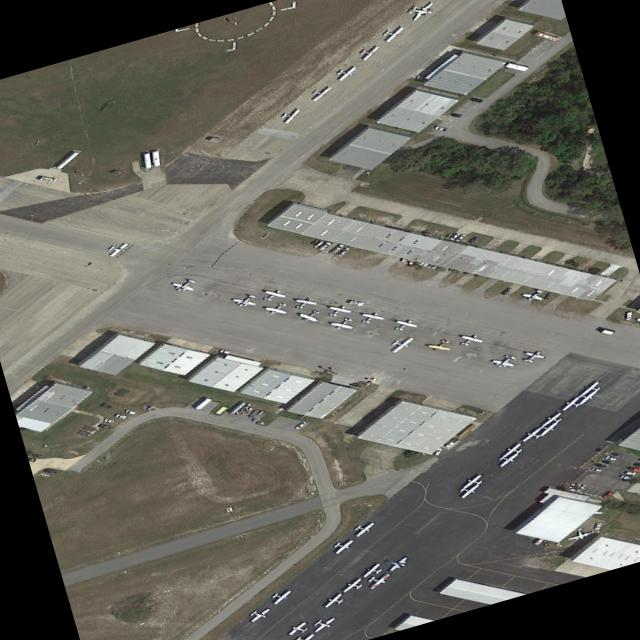large-vehicle: (55, 152, 80, 169), (503, 62, 528, 72), (326, 244, 344, 255), (316, 241, 332, 251), (142, 152, 151, 169), (150, 150, 159, 167), (37, 176, 57, 183), (568, 483, 582, 491), (562, 483, 575, 491), (600, 491, 613, 499), (592, 462, 606, 469), (626, 466, 640, 471), (618, 475, 634, 479)
plane: (400, 0, 441, 22), (305, 615, 340, 634), (379, 554, 414, 573), (359, 572, 394, 590), (166, 277, 202, 294), (383, 335, 417, 353), (375, 25, 408, 43), (564, 524, 595, 543), (242, 605, 274, 623), (452, 332, 487, 348), (457, 473, 489, 490), (226, 293, 262, 308), (570, 388, 601, 405), (337, 577, 368, 594), (575, 380, 606, 397), (517, 426, 548, 443), (487, 354, 522, 369), (490, 451, 522, 467), (325, 538, 357, 554), (294, 308, 326, 324), (531, 419, 561, 436), (452, 482, 482, 499), (261, 301, 294, 316), (326, 316, 359, 331), (387, 318, 420, 333), (424, 338, 457, 353), (319, 593, 349, 609), (498, 442, 528, 458), (347, 521, 377, 537), (101, 241, 131, 257), (265, 589, 295, 605), (329, 65, 359, 81), (304, 85, 334, 101), (516, 349, 548, 364), (557, 396, 586, 412), (538, 411, 567, 427), (256, 288, 289, 302), (321, 304, 354, 318), (284, 621, 312, 637), (275, 108, 303, 124), (358, 563, 387, 578), (353, 45, 382, 60), (518, 288, 549, 302), (288, 297, 321, 310), (354, 311, 387, 324), (313, 364, 340, 378), (294, 632, 318, 640), (361, 377, 380, 386), (630, 316, 640, 325)
small-vehicle: (444, 438, 457, 447), (336, 247, 349, 256), (346, 300, 364, 306), (311, 240, 324, 248), (447, 232, 460, 240), (293, 421, 306, 429), (41, 468, 58, 474), (574, 484, 586, 492), (432, 125, 448, 131), (453, 234, 466, 241), (500, 288, 512, 295), (113, 413, 127, 419), (603, 455, 617, 461), (598, 459, 612, 465), (467, 236, 478, 243), (96, 424, 111, 429), (469, 97, 484, 102), (623, 470, 637, 475), (101, 418, 114, 423), (123, 409, 136, 414), (217, 349, 230, 354), (589, 467, 602, 472), (624, 311, 631, 320), (433, 448, 442, 455), (593, 522, 602, 529), (37, 472, 49, 477), (608, 451, 619, 456), (543, 293, 552, 299), (449, 113, 462, 117), (415, 76, 427, 80), (631, 462, 640, 467), (30, 453, 41, 457)
